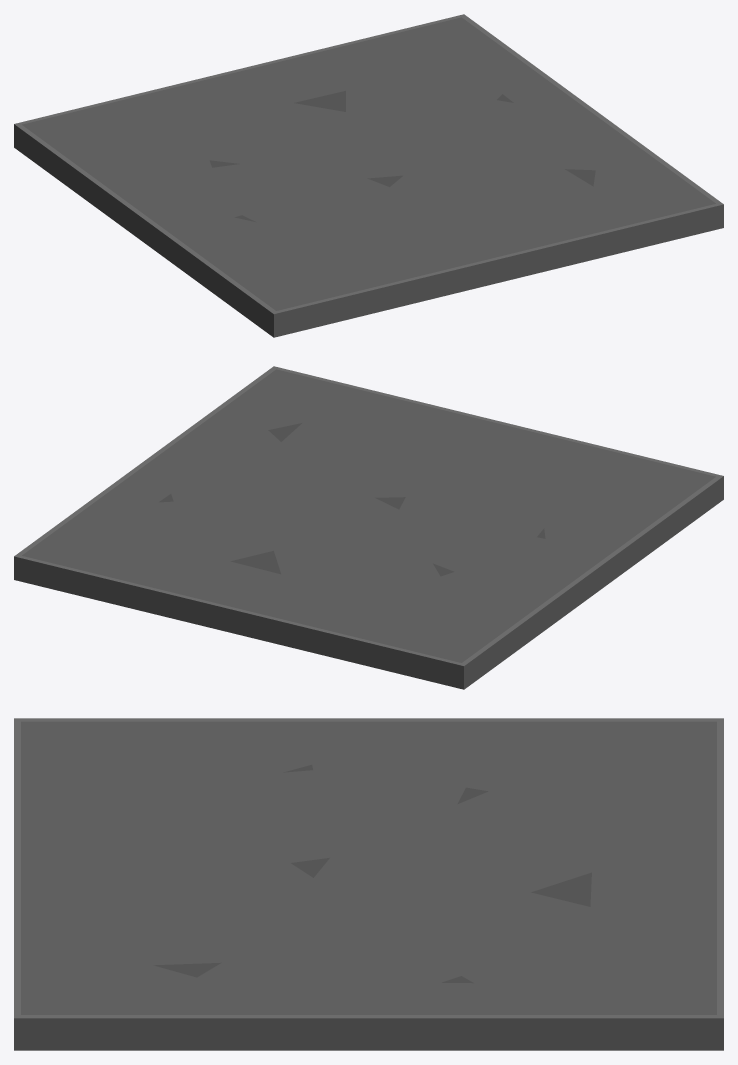
The model's file is ConcrateSlabs_B_1_3.fbx.
The picture shows the model from 3 angles, top to bottom: view 1: azimuth 30°, elevation 25°; view 2: azimuth 150°, elevation 25°; view 3: azimuth 270°, elevation 25°; orthographic projection. The views are drawn at different scales.
Parts seen in each view (by area): view 1: ConcrateSlabs_B_1_3; view 2: ConcrateSlabs_B_1_3; view 3: ConcrateSlabs_B_1_3.
Part boxes in pixels (x1,y1,x2,y2): ConcrateSlabs_B_1_3: [14, 14, 723, 337]; ConcrateSlabs_B_1_3: [14, 366, 723, 689]; ConcrateSlabs_B_1_3: [14, 718, 723, 1050].
Bounding box in the file's own units: 800 × 40 × 800.
